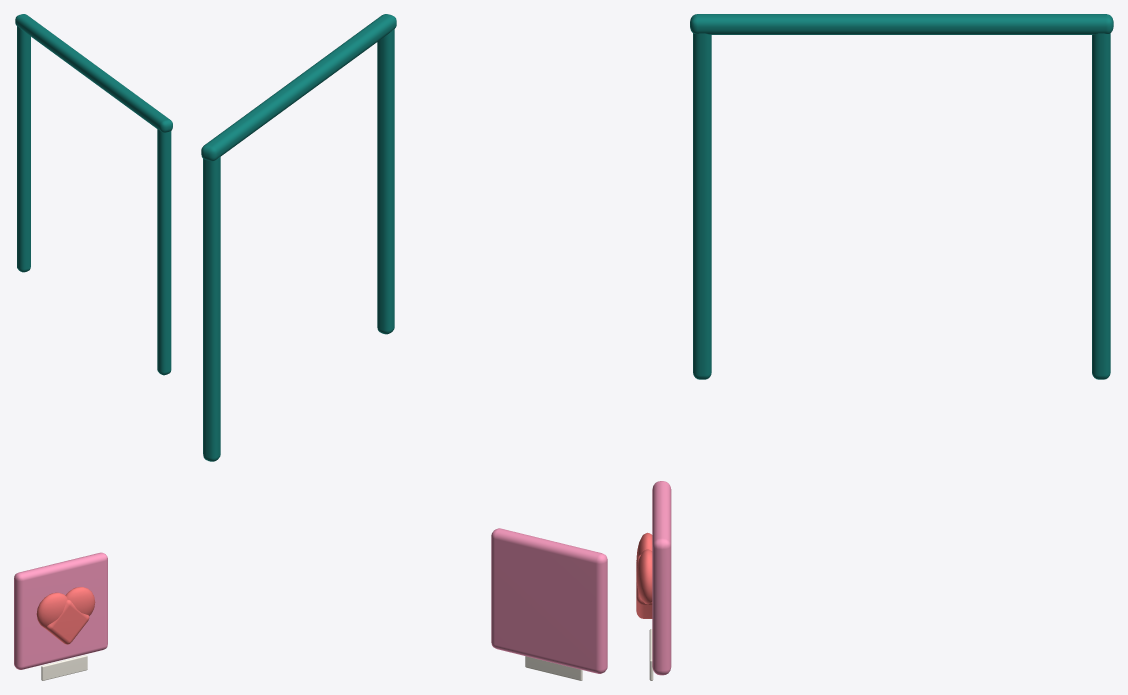
The model's file is BreedingPair.fbx.
3 views of the same model, side by side, from view 1: azimuth 30°, elevation 25°; view 2: azimuth 150°, elevation 25°; view 3: azimuth 270°, elevation 25° (orthographic). The views are drawn at different scales.
Parts seen in each view (by area): view 1: BreedingPair mesh; view 2: BreedingPair mesh; view 3: BreedingPair mesh.
Boxes of the visible parts, <box> form: BreedingPair mesh: <box>14,14,172,680</box>; BreedingPair mesh: <box>201,14,607,680</box>; BreedingPair mesh: <box>636,14,1113,680</box>.
Size of the model in its own units: 0.296 by 0.8575 by 0.507.
